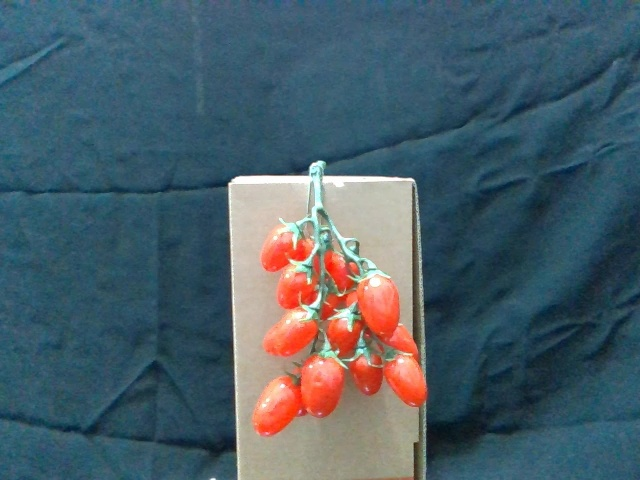tomato: (253, 371, 300, 439), (358, 269, 403, 340), (265, 306, 322, 358), (304, 350, 343, 418), (260, 220, 305, 273), (387, 355, 429, 408), (276, 260, 318, 309), (350, 343, 387, 395), (330, 302, 363, 349)
